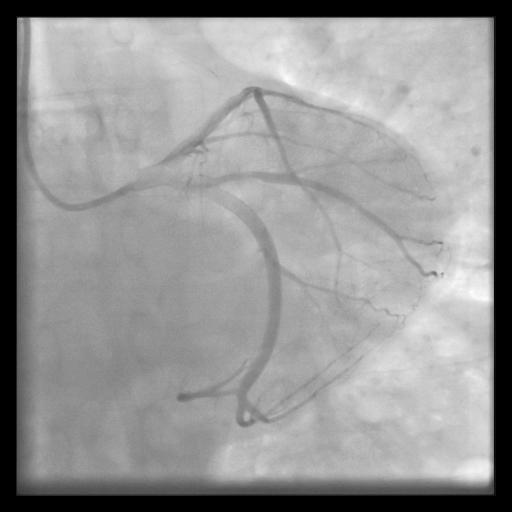Stenosis: (216, 167, 263, 183)
